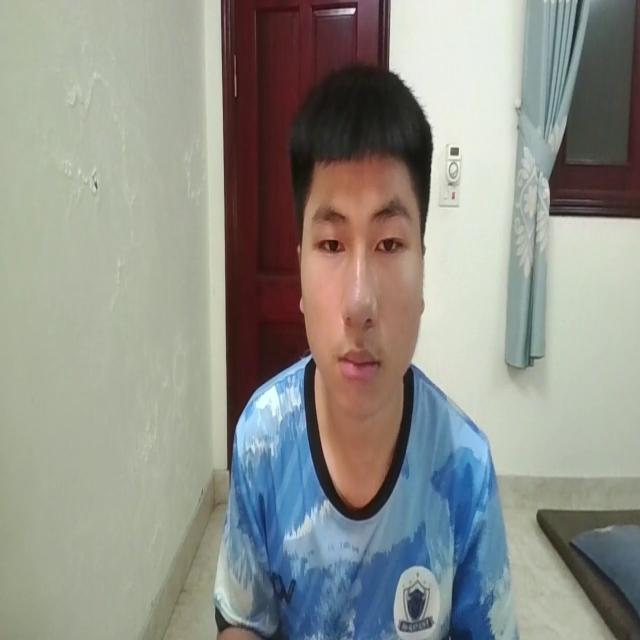student: (228, 62, 512, 640)
